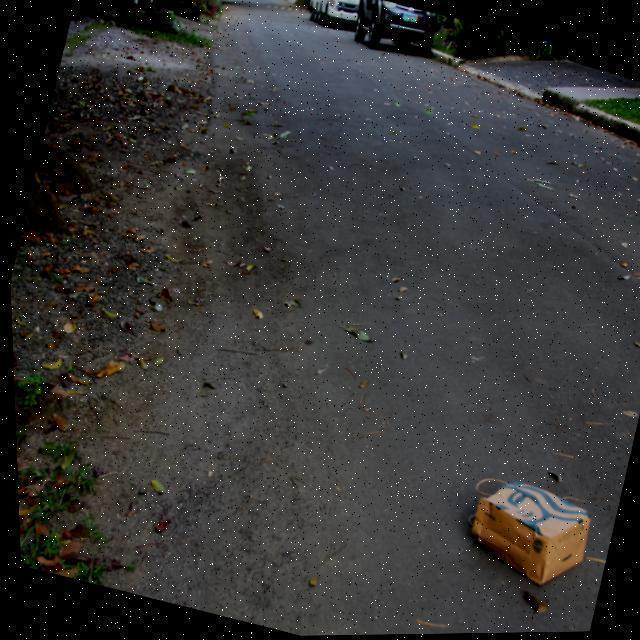Paper_Bag: (450, 471, 595, 598)
